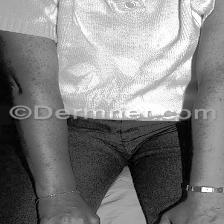Benign Marking or Mole: (210, 68, 224, 104)
